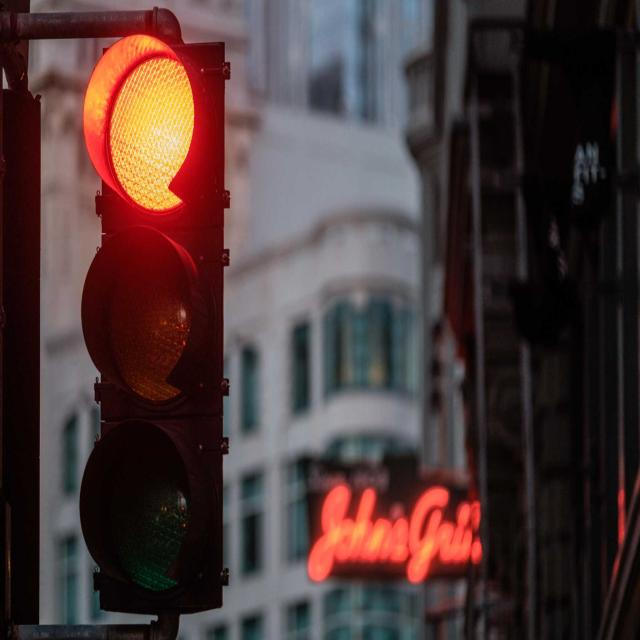red: (92, 45, 208, 214)
